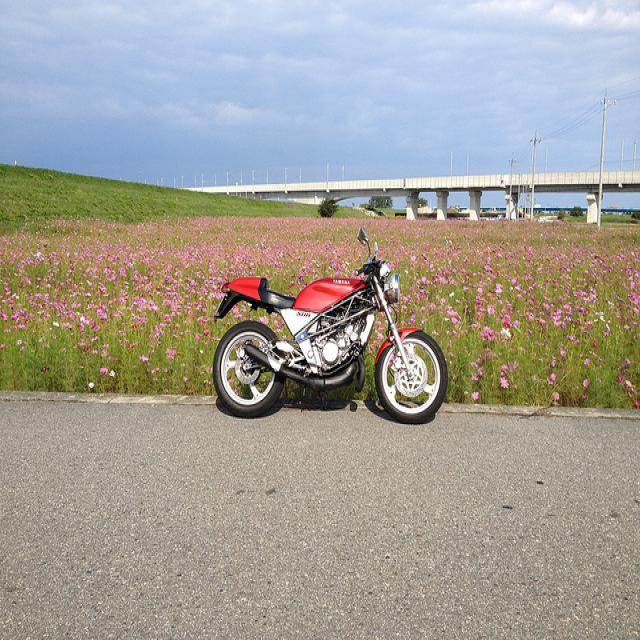motor: (213, 223, 447, 425)
